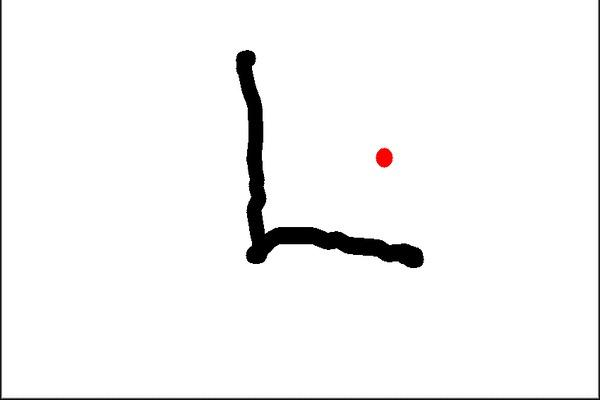L: (225, 45, 428, 277)
